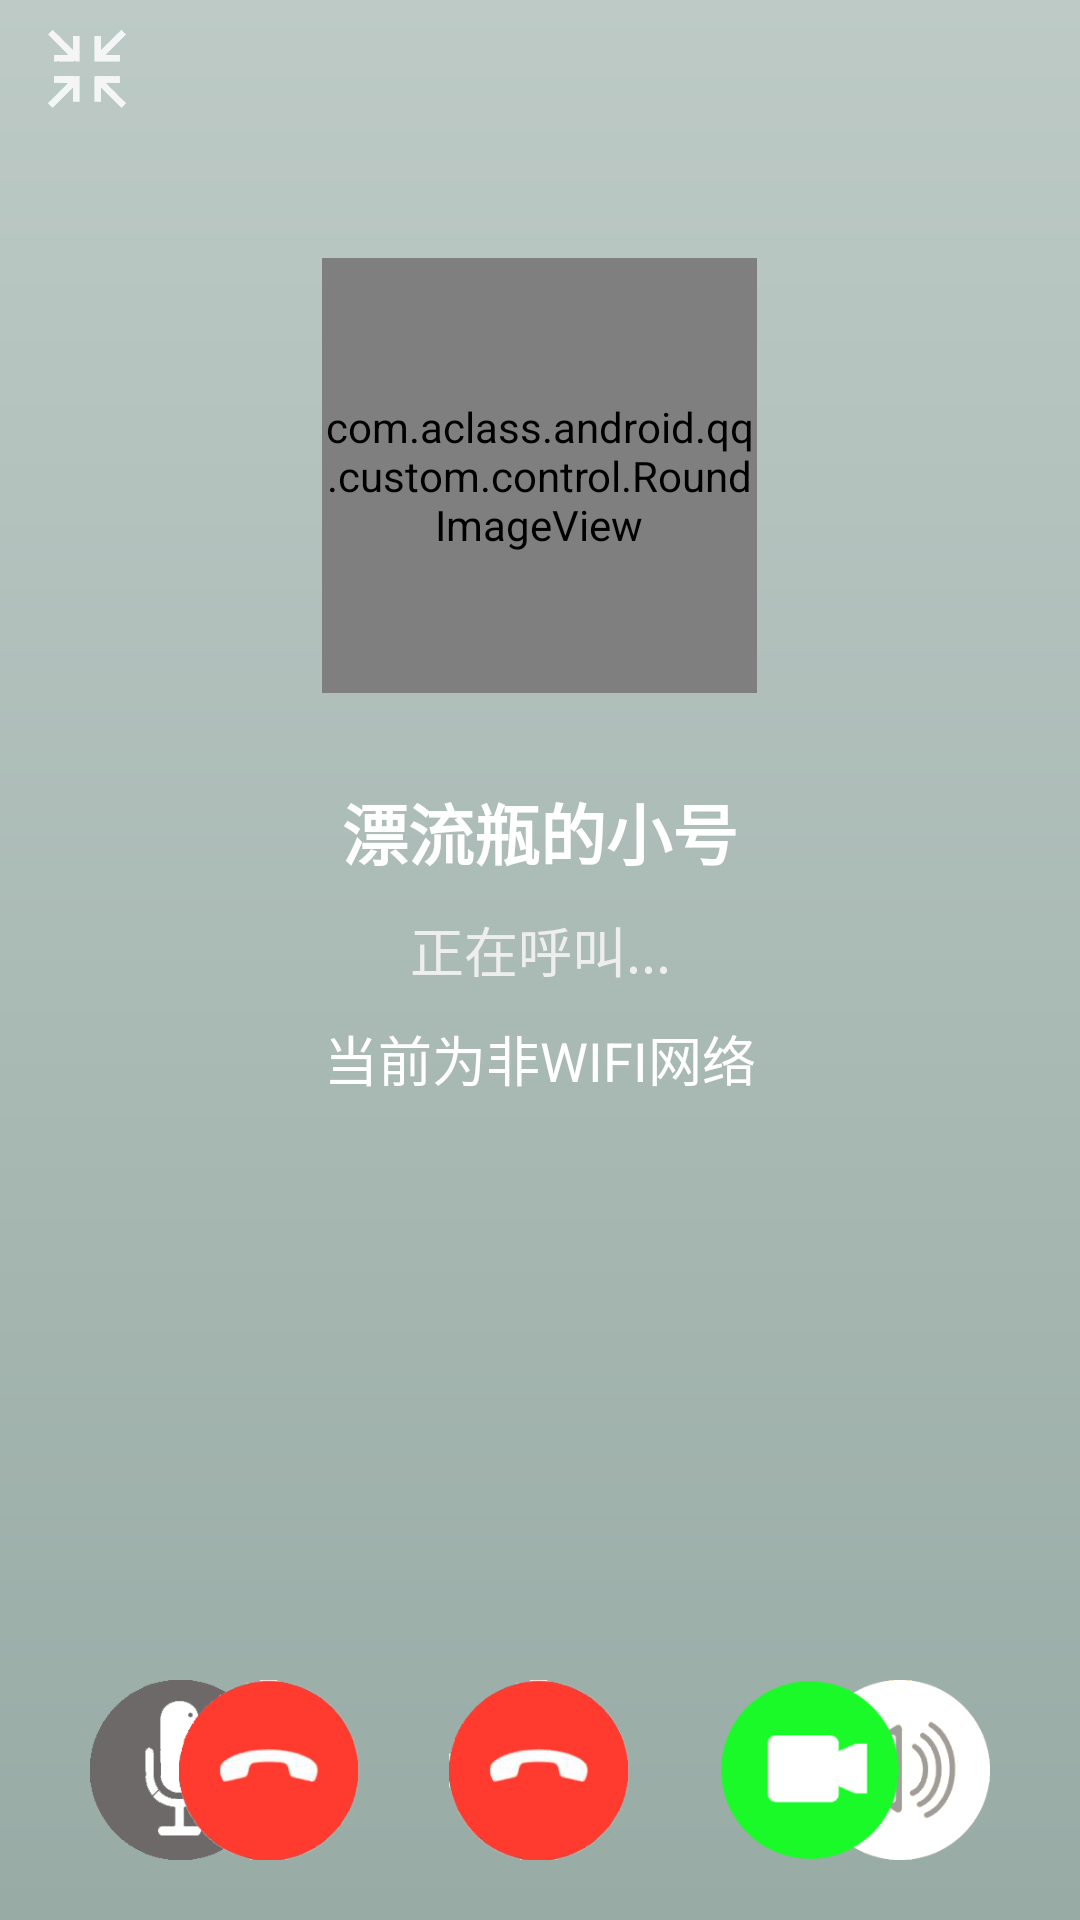

Where to tap for icons on this 1080x1920 app screen, as (x,y):
videoview mini: (87,69)
